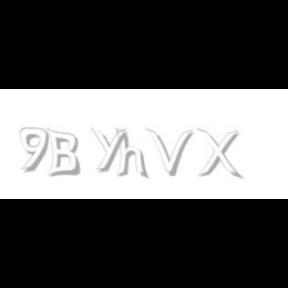9: (20, 128, 48, 172)
B: (46, 128, 80, 178)
V: (145, 128, 193, 176)
X: (196, 128, 240, 180)
h: (116, 128, 150, 180)
y: (91, 128, 131, 172)
